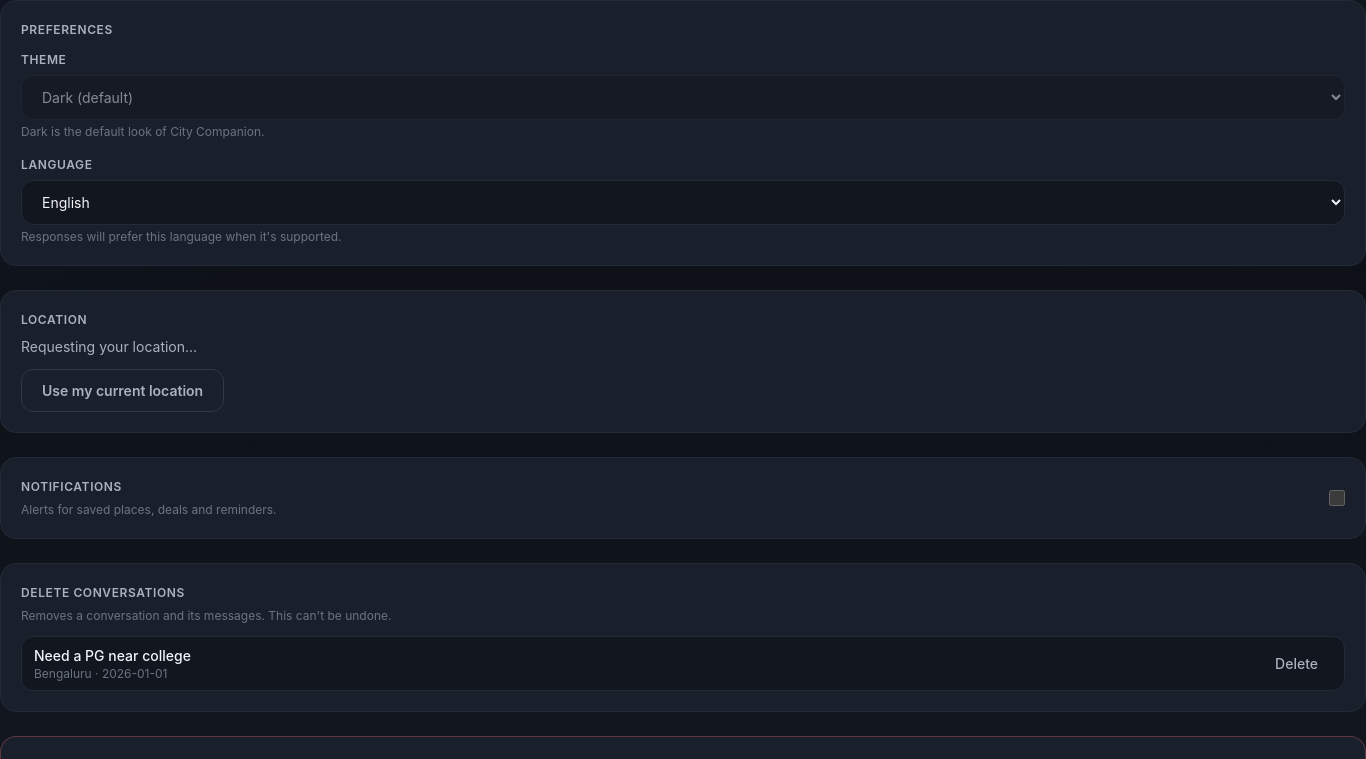
it: SettingsForm (Phase 7E — §10.3) › lets the user cancel a pending conversation deletion
The width and height of the screenshot is (1366, 759).
Expected: the text "Need a PG near college" is shown, [34,646,191,666]
Click the button "Delete": (1297, 664) [1261,645,1332,682]
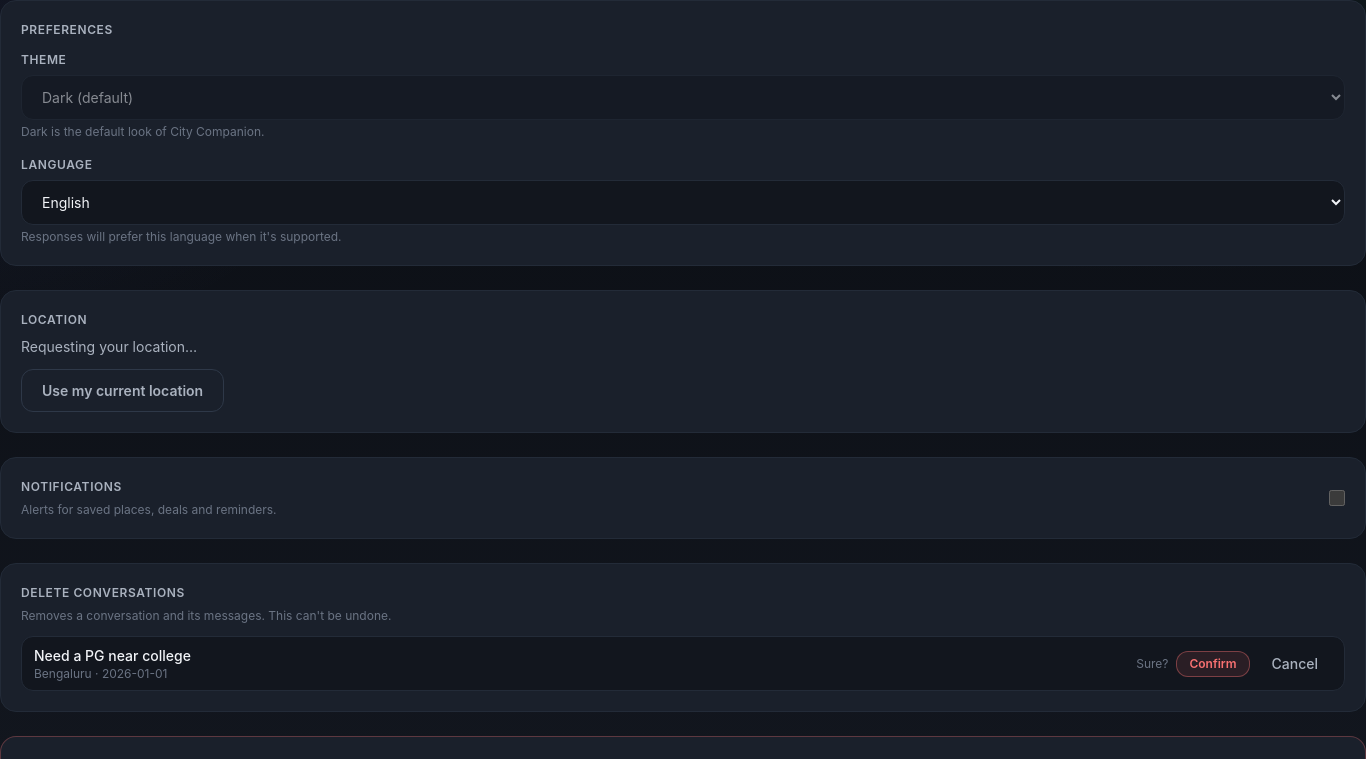
Click the button "Cancel": (1295, 664) [1258,645,1332,682]
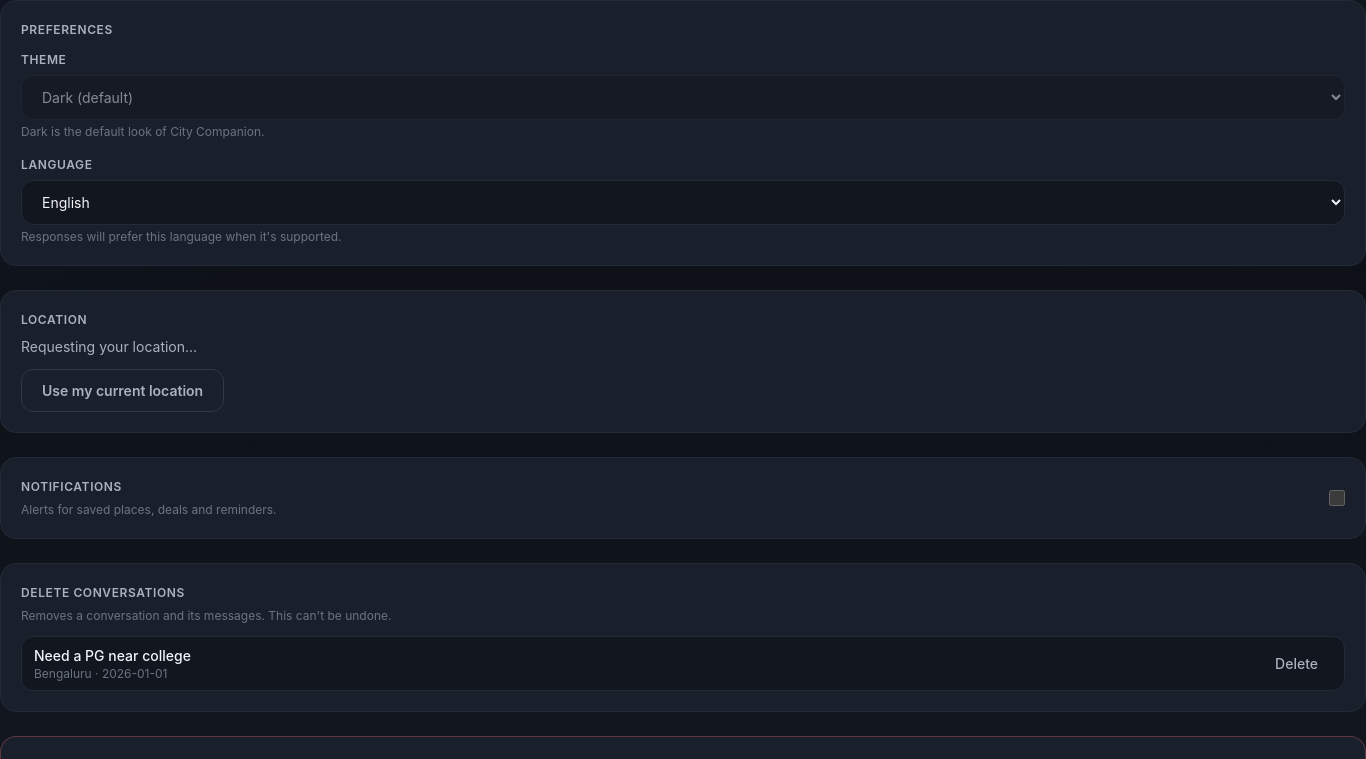
Result: the button "Delete" is shown at [1261,645,1332,682]
